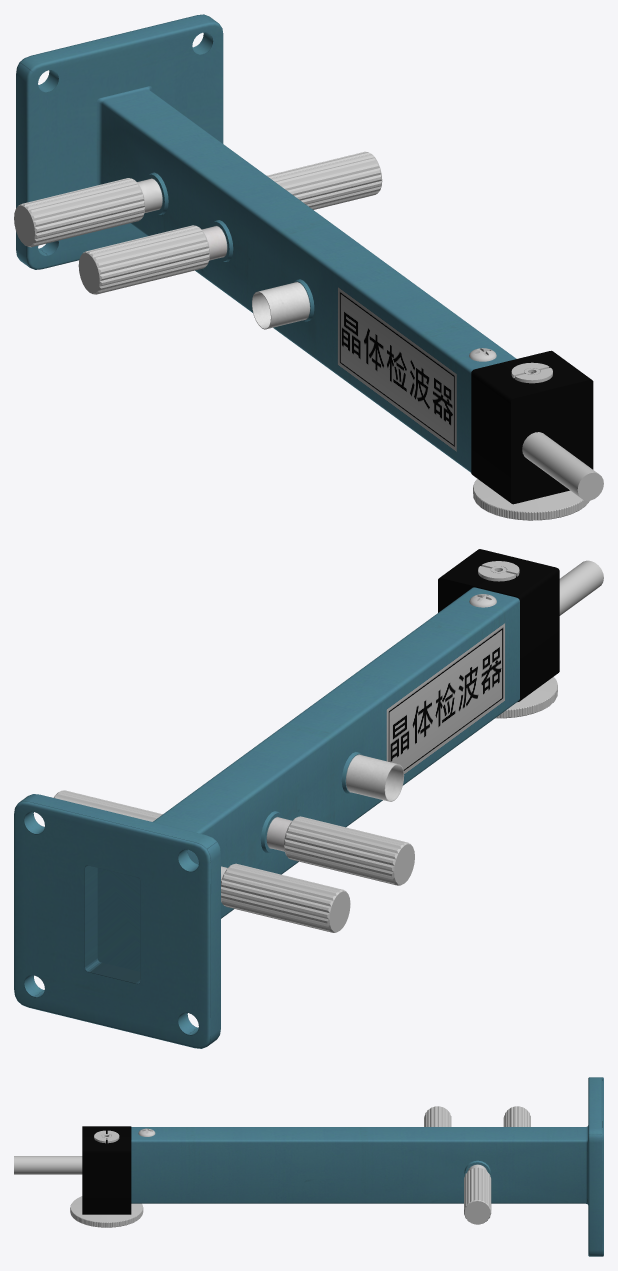
Rendered from Jing_Ti_Jian_Ce_Bo(4).FBX.
The picture shows the model from 3 angles, top to bottom: view 1: azimuth 30°, elevation 25°; view 2: azimuth 150°, elevation 25°; view 3: azimuth 270°, elevation 25°; orthographic projection. The views are drawn at different scales.
Visible parts, largest first — view 1: 对象017, 对象009, 对象014, 对象011, 对象012, 对象010, 对象008, 对象013, 对象015; view 2: 对象017, 对象009, 对象014, 对象011, 对象012, 对象015, 对象008, 对象013, 对象010; view 3: 对象017, 对象014, 对象009, 对象010, 对象008, 对象013, 对象011, 对象012.
Boxes of the visible parts, left/top/right/bottom form: 对象017: left=96, top=86, right=516, bottom=472; 对象009: left=16, top=14, right=223, bottom=269; 对象014: left=471, top=350, right=593, bottom=504; 对象011: left=78, top=225, right=209, bottom=294; 对象012: left=14, top=178, right=145, bottom=247; 对象010: left=267, top=151, right=382, bottom=209; 对象008: left=522, top=432, right=603, bottom=500; 对象013: left=473, top=479, right=589, bottom=520; 对象015: left=252, top=282, right=310, bottom=329; 对象017: left=97, top=587, right=519, bottom=971; 对象009: left=14, top=794, right=220, bottom=1048; 对象014: left=438, top=549, right=559, bottom=701; 对象011: left=284, top=816, right=414, bottom=885; 对象012: left=221, top=863, right=350, bottom=932; 对象015: left=346, top=754, right=404, bottom=801; 对象008: left=559, top=560, right=603, bottom=615; 对象013: left=495, top=677, right=557, bottom=718; 对象010: left=53, top=790, right=162, bottom=821; 对象017: left=131, top=1125, right=588, bottom=1204; 对象014: left=82, top=1126, right=131, bottom=1214; 对象009: left=588, top=1077, right=603, bottom=1256; 对象010: left=464, top=1167, right=491, bottom=1224; 对象008: left=14, top=1156, right=82, bottom=1174; 对象013: left=70, top=1196, right=143, bottom=1227; 对象011: left=424, top=1106, right=451, bottom=1126; 对象012: left=503, top=1106, right=530, bottom=1126.
Size of the model in its own units: 6.38 by 3.99 by 16.81.
